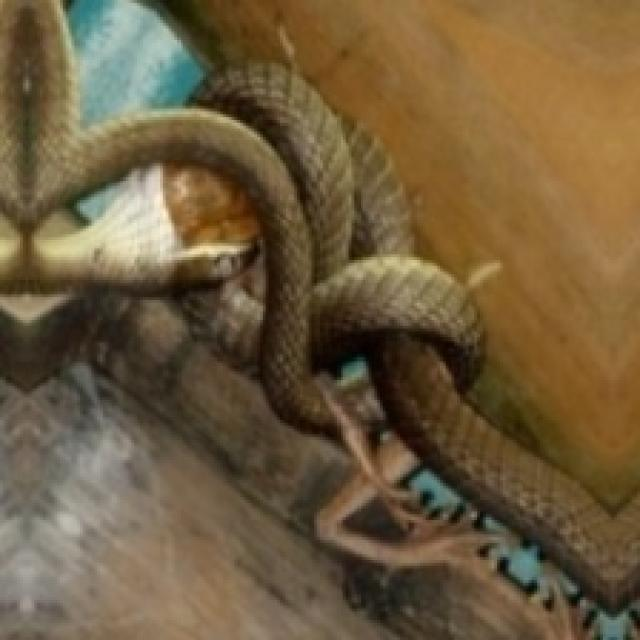paradise tree snake: (0, 0, 637, 606), (40, 160, 266, 377), (443, 563, 577, 637), (423, 600, 440, 629)
